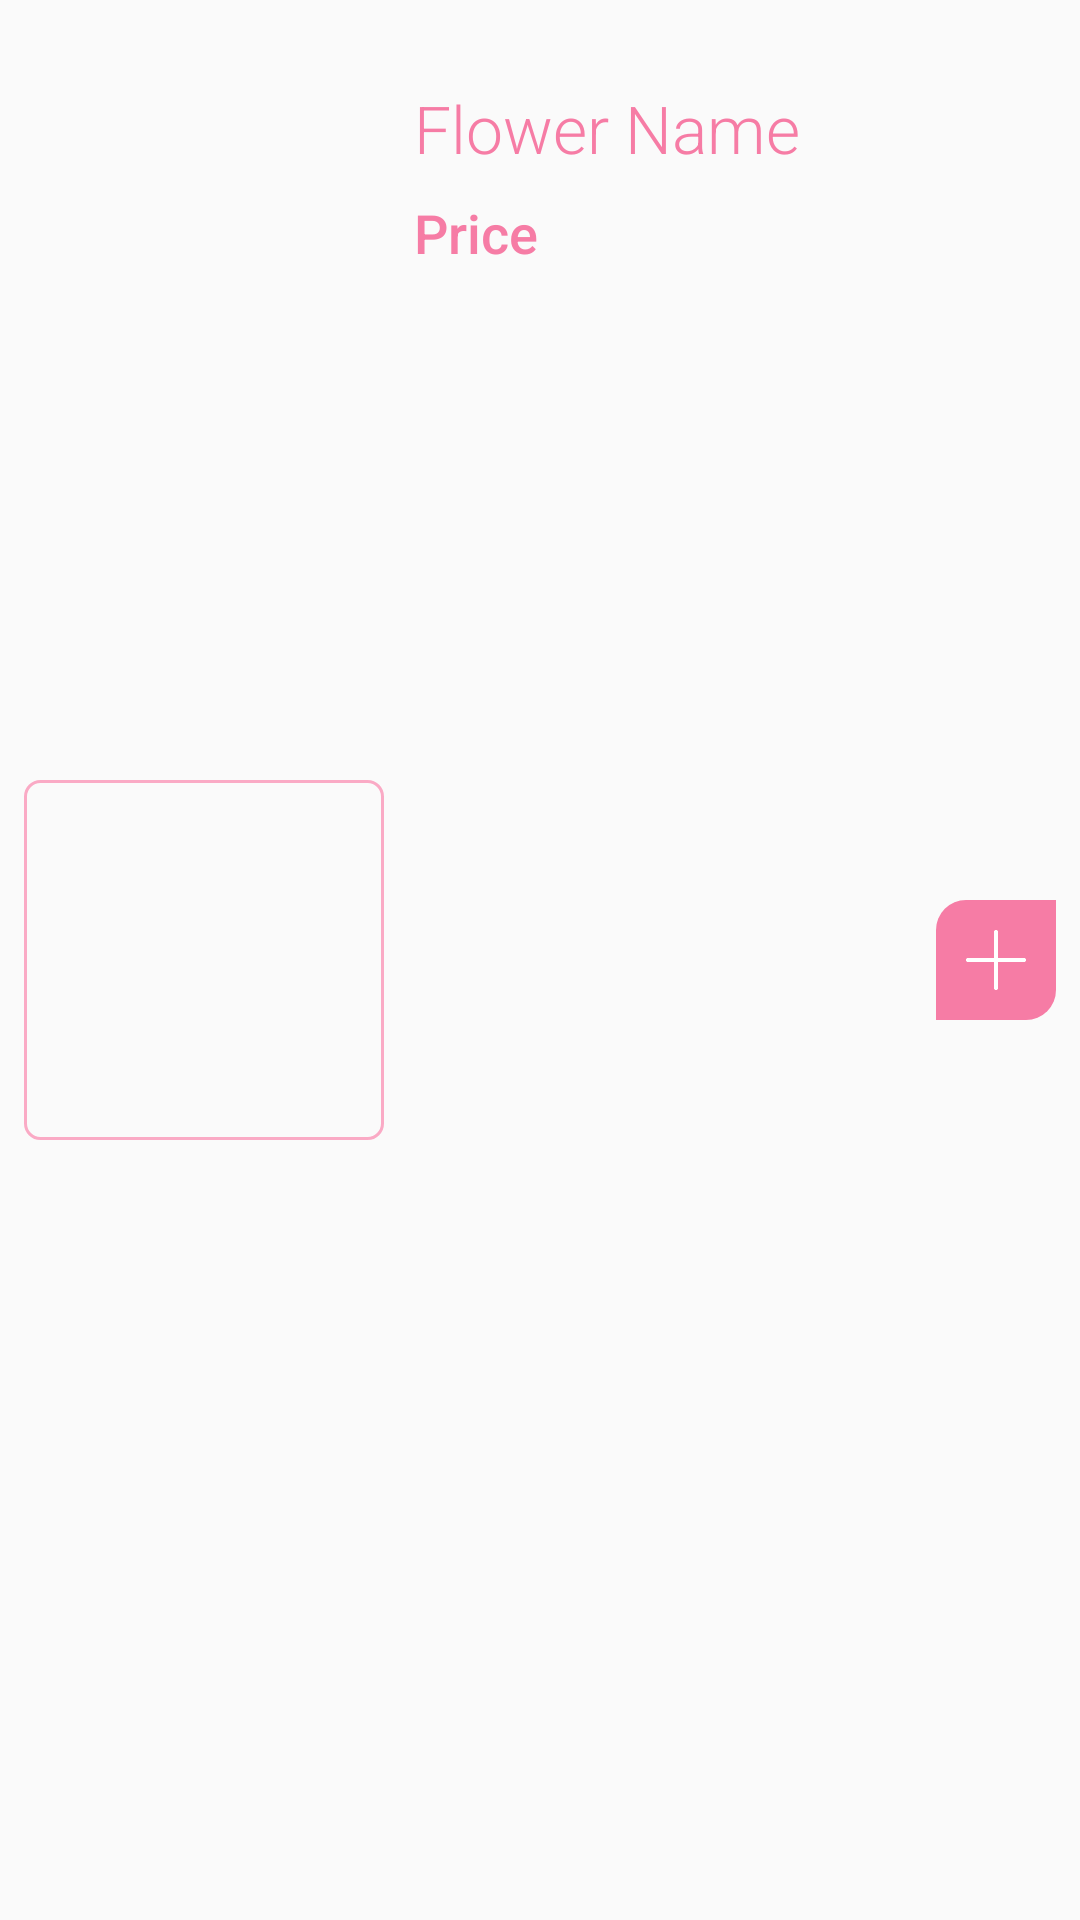

Icons on this 1080×1920 Android screen, each with its box as (x1, y1, x2, y2):
add to cart button: (936, 900, 1056, 1020)
